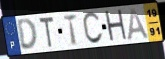A: (127, 8, 151, 42)
C: (81, 11, 105, 46)
D: (16, 17, 39, 52)
H: (103, 8, 129, 44)
T: (62, 13, 79, 48), (38, 16, 55, 50)
